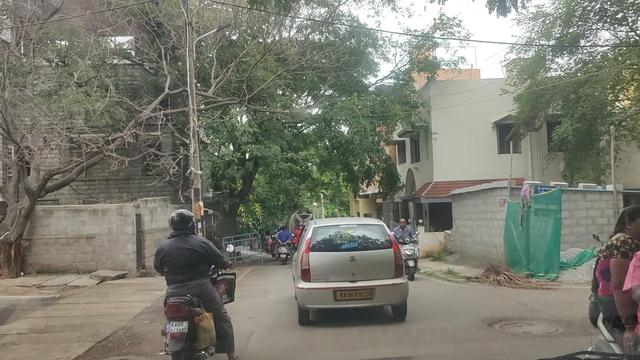LMV: (146, 210, 234, 360), (293, 221, 404, 325)
RoadDamages: (486, 294, 573, 350)
